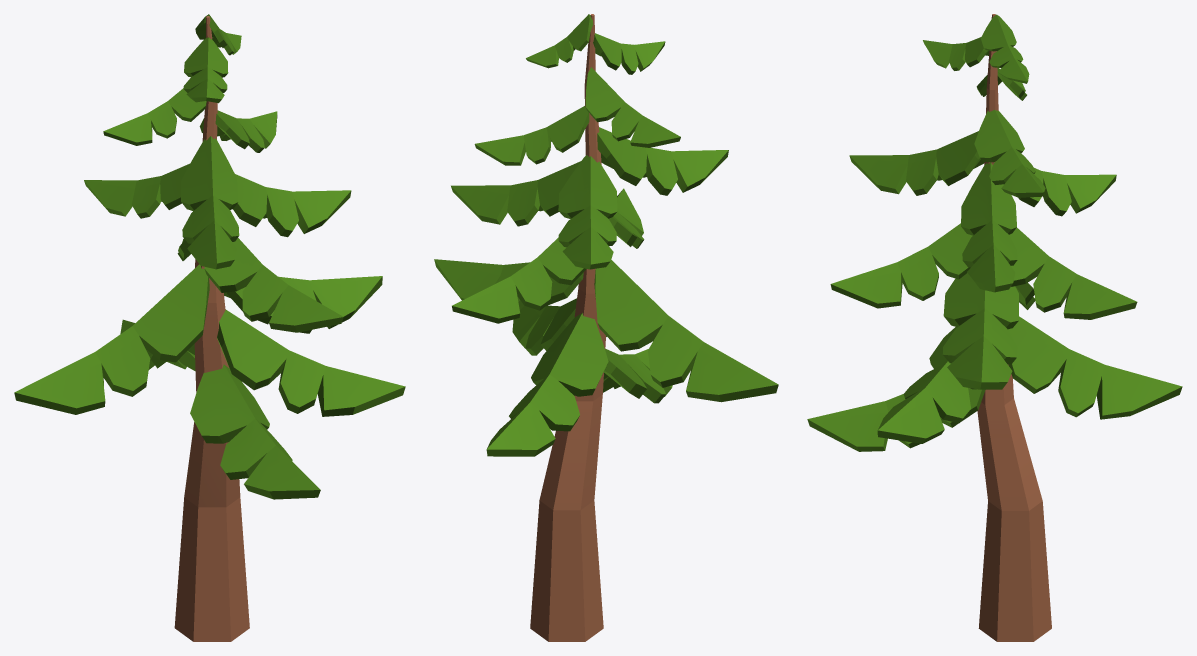
Rendered from sapin-9.glb.
3 renders of one model, left to right at view 1: azimuth 30°, elevation 25°; view 2: azimuth 150°, elevation 25°; view 3: azimuth 270°, elevation 25°, orthographic. The views are drawn at different scales.
Parts seen in each view (by area): view 1: PP_Tree_02.001_PP_Standard_Material_0; view 2: PP_Tree_02.001_PP_Standard_Material_0; view 3: PP_Tree_02.001_PP_Standard_Material_0.
Boxes of the visible parts, bbox=[...] form: PP_Tree_02.001_PP_Standard_Material_0: bbox=[14, 14, 405, 641]; PP_Tree_02.001_PP_Standard_Material_0: bbox=[434, 14, 778, 641]; PP_Tree_02.001_PP_Standard_Material_0: bbox=[807, 14, 1182, 641].
Bounding box in the file's own units: 4.27 × 7.07 × 3.96.
Materials: 1 (1 with a texture image).
